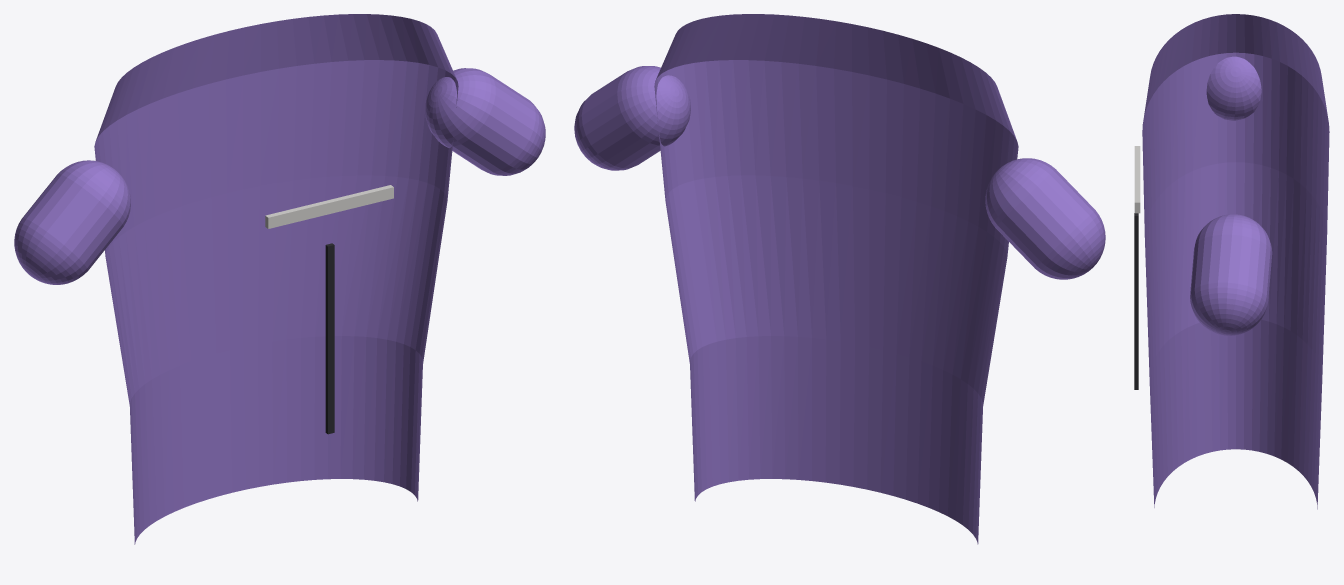
The model's file is jersey-men.glb.
3 renders of one model, left to right at view 1: azimuth 30°, elevation 25°; view 2: azimuth 150°, elevation 25°; view 3: azimuth 270°, elevation 25°, orthographic. The views are drawn at different scales.
Parts seen in each view (by area): view 1: GARMENT_TORSO, GARMENT_SLEEVE_-1, GARMENT_SLEEVE_1, GARMENT_CHEST_MARK, GARMENT_ZIP; view 2: GARMENT_TORSO, GARMENT_SLEEVE_-1, GARMENT_SLEEVE_1; view 3: GARMENT_TORSO, GARMENT_SLEEVE_1, GARMENT_SLEEVE_-1, GARMENT_ZIP, GARMENT_CHEST_MARK.
Part boxes in pixels (x1,y1,x2,y2): GARMENT_TORSO: [94, 14, 458, 544]; GARMENT_SLEEVE_-1: [14, 160, 130, 284]; GARMENT_SLEEVE_1: [425, 68, 545, 175]; GARMENT_CHEST_MARK: [265, 185, 393, 228]; GARMENT_ZIP: [325, 243, 334, 434]; GARMENT_TORSO: [654, 14, 1018, 544]; GARMENT_SLEEVE_-1: [985, 158, 1105, 279]; GARMENT_SLEEVE_1: [574, 66, 690, 170]; GARMENT_TORSO: [1142, 14, 1329, 509]; GARMENT_SLEEVE_1: [1190, 214, 1272, 335]; GARMENT_SLEEVE_-1: [1206, 56, 1261, 120]; GARMENT_ZIP: [1134, 213, 1138, 389]; GARMENT_CHEST_MARK: [1134, 146, 1140, 213].
Size of the model in its own units: 1.16 by 0.98 by 0.4065.
